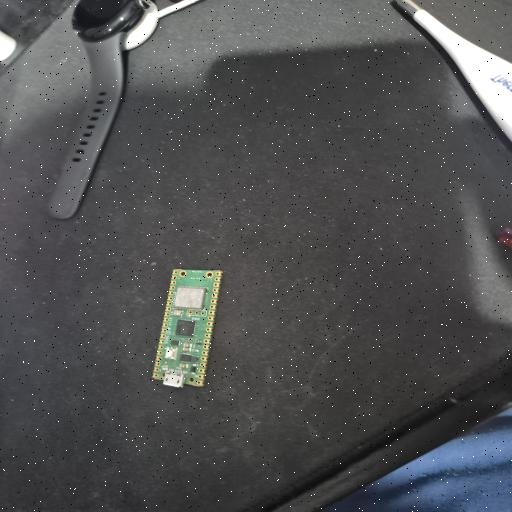raspberry-pi-pico-w: (153, 269, 224, 388)
